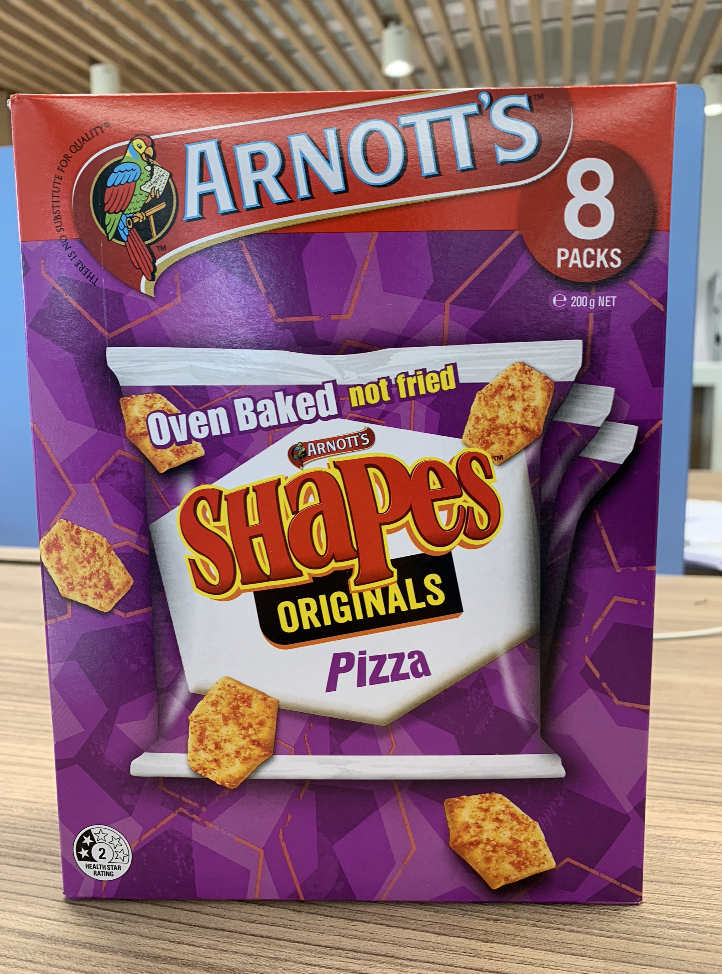crackers_150g: (68, 113, 635, 888)
